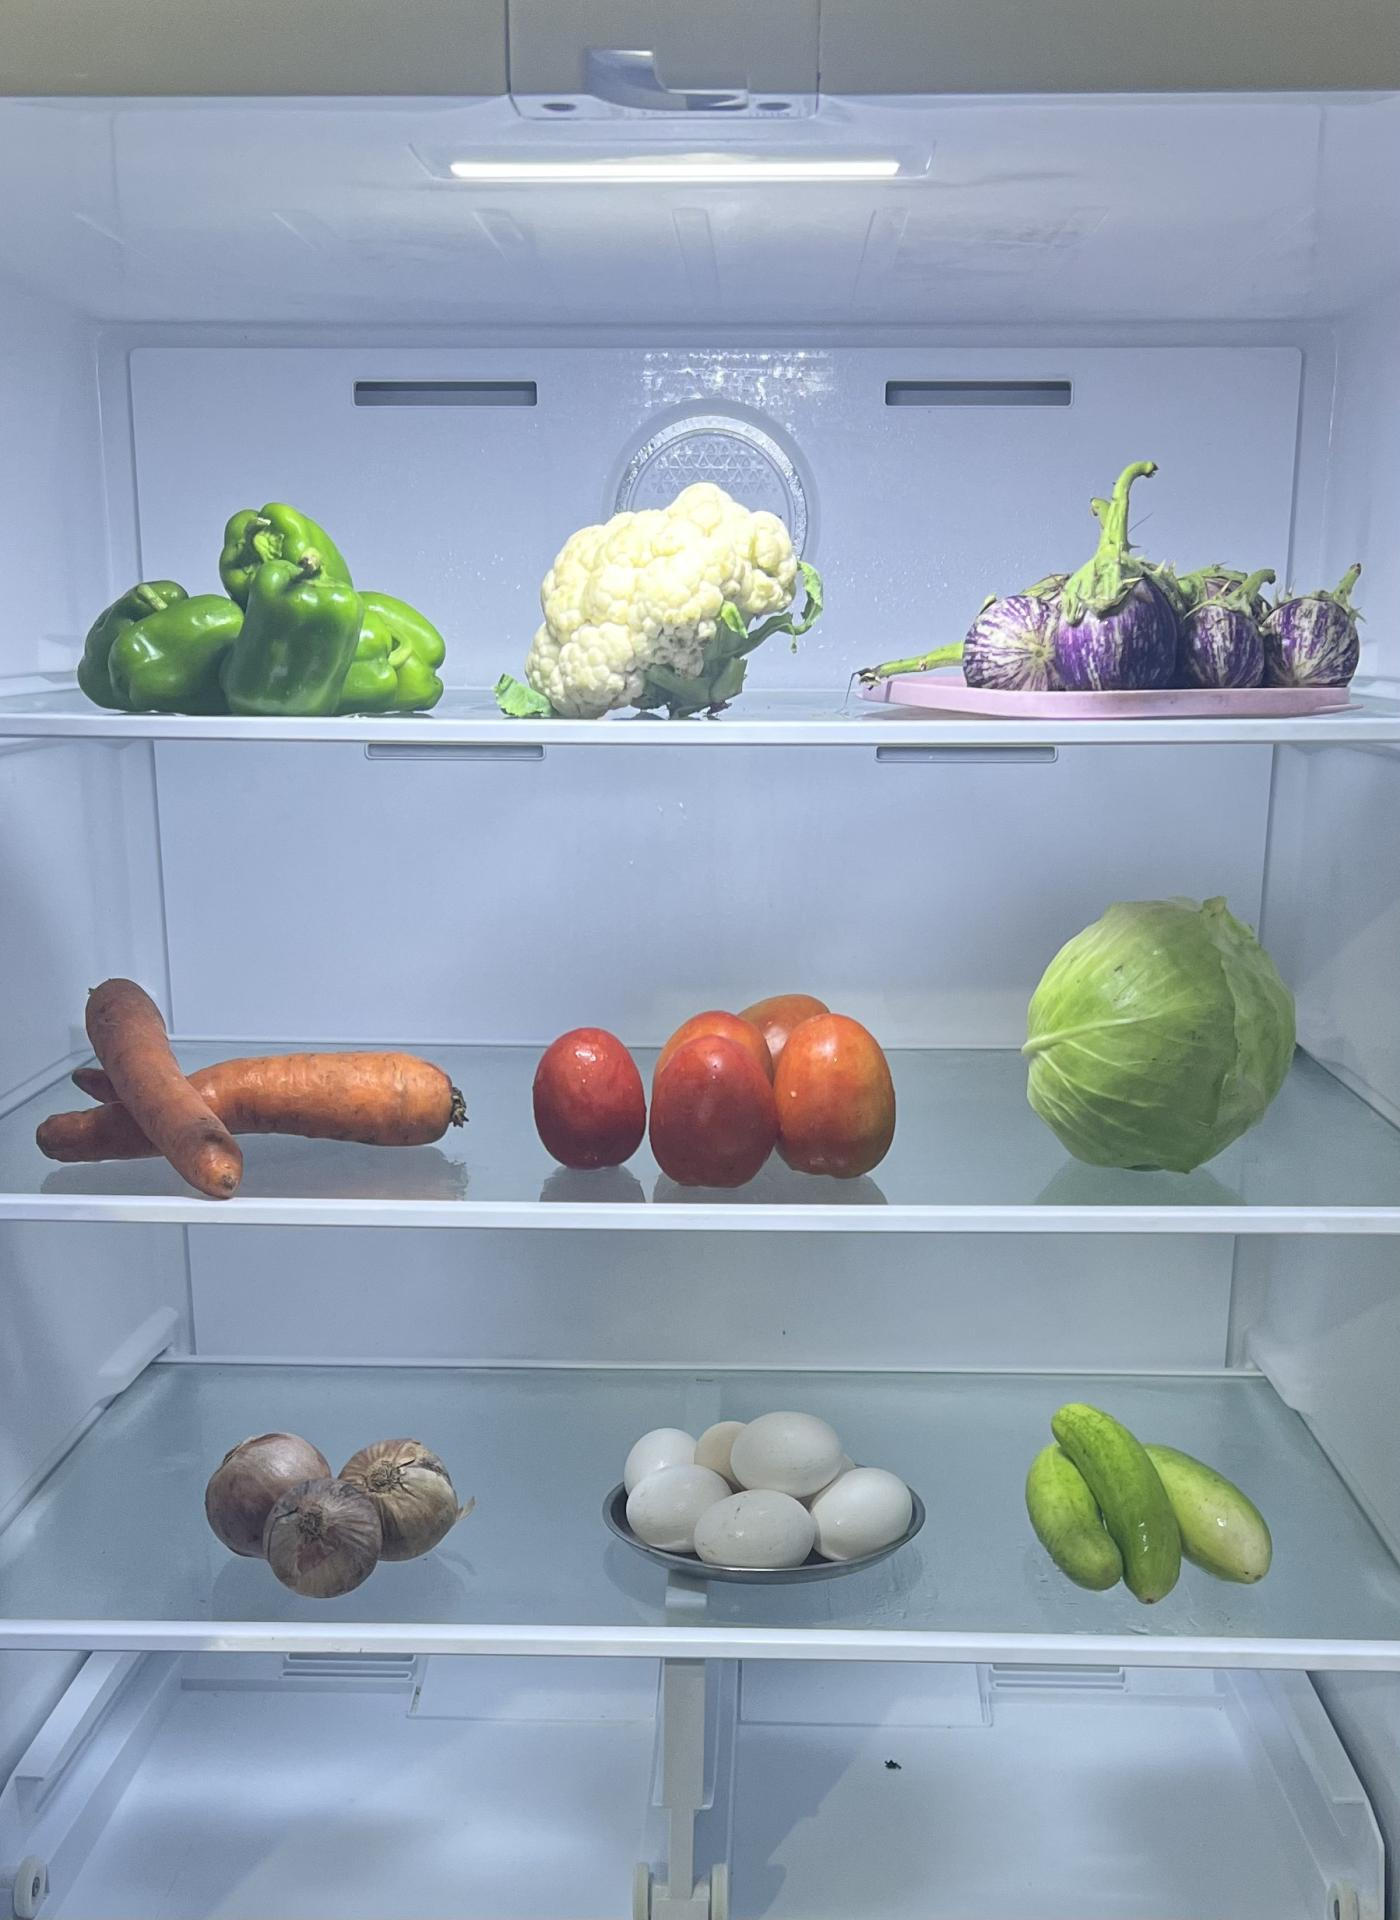brinjal: (954, 540, 1357, 692)
cabbage: (1020, 896, 1294, 1176)
capsicum: (76, 501, 461, 723)
carrots: (34, 972, 467, 1199)
cauliflower: (520, 484, 807, 717)
cucumber: (1030, 1380, 1282, 1589)
egg: (620, 1407, 911, 1579)
onion: (206, 1428, 468, 1601)
tomato: (537, 996, 915, 1194)
